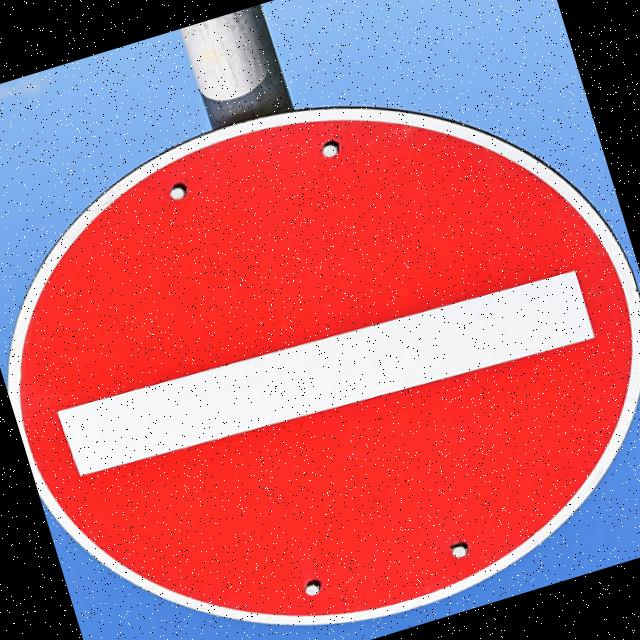do_not_enter: (0, 26, 640, 640)
